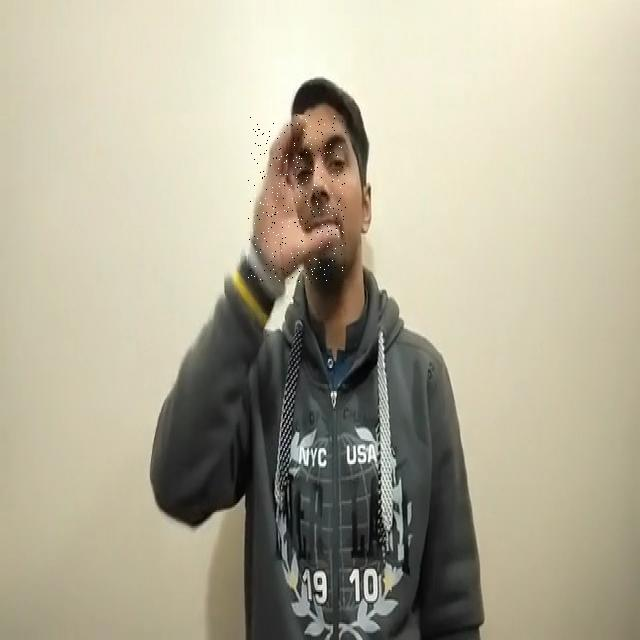drink: (248, 115, 346, 284)
